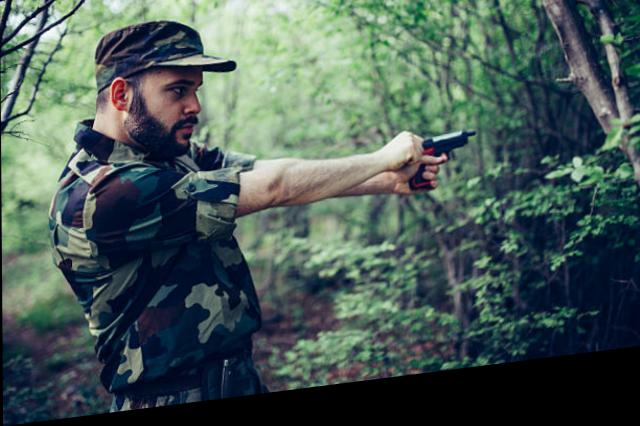other: (48, 14, 265, 419)
